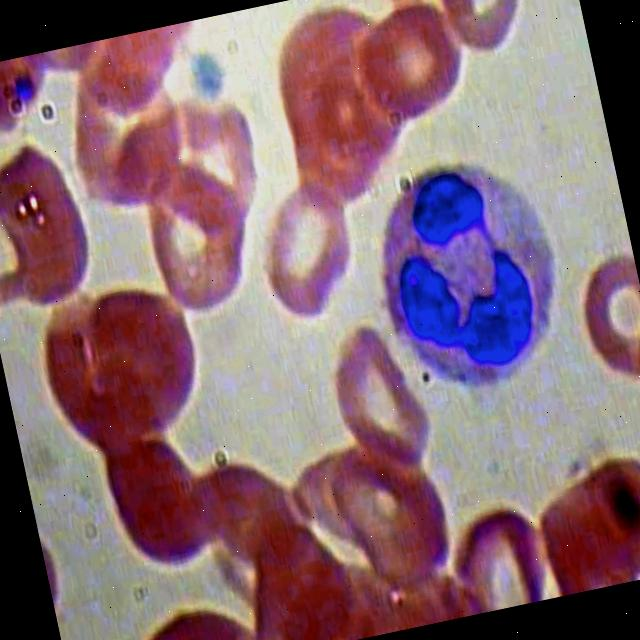Platelets: (180, 44, 233, 111)
RBC: (63, 272, 215, 446), (54, 56, 198, 224), (314, 316, 442, 490), (90, 416, 222, 584), (246, 179, 372, 333), (350, 0, 481, 146), (148, 92, 274, 242), (0, 135, 102, 316), (140, 172, 259, 324), (194, 441, 318, 583), (442, 500, 560, 617), (569, 247, 640, 393), (572, 440, 640, 587), (431, 0, 549, 72), (113, 586, 269, 640)
WBC: (348, 146, 580, 404)
